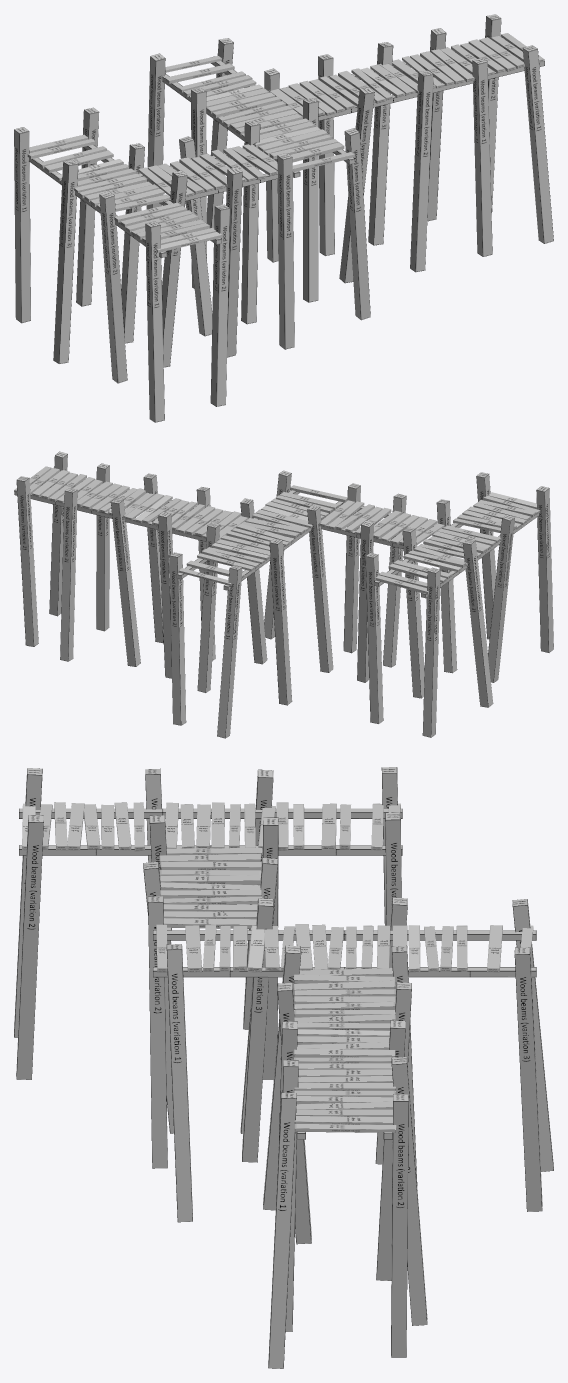
Rendered from Docks02.fbx.
The picture shows the model from 3 angles, top to bottom: view 1: azimuth 30°, elevation 25°; view 2: azimuth 150°, elevation 25°; view 3: azimuth 270°, elevation 25°; orthographic projection. The views are drawn at different scales.
Parts seen in each view (by area): view 1: Docks_02; view 2: Docks_02; view 3: Docks_02.
Part boxes in pixels (x1,y1,x2,y2): Docks_02: (14, 14, 553, 422); Docks_02: (14, 451, 553, 738); Docks_02: (14, 767, 553, 1368).
Size of the model in its own units: 1544 by 589 by 1041.
1 material, 1 textured.
